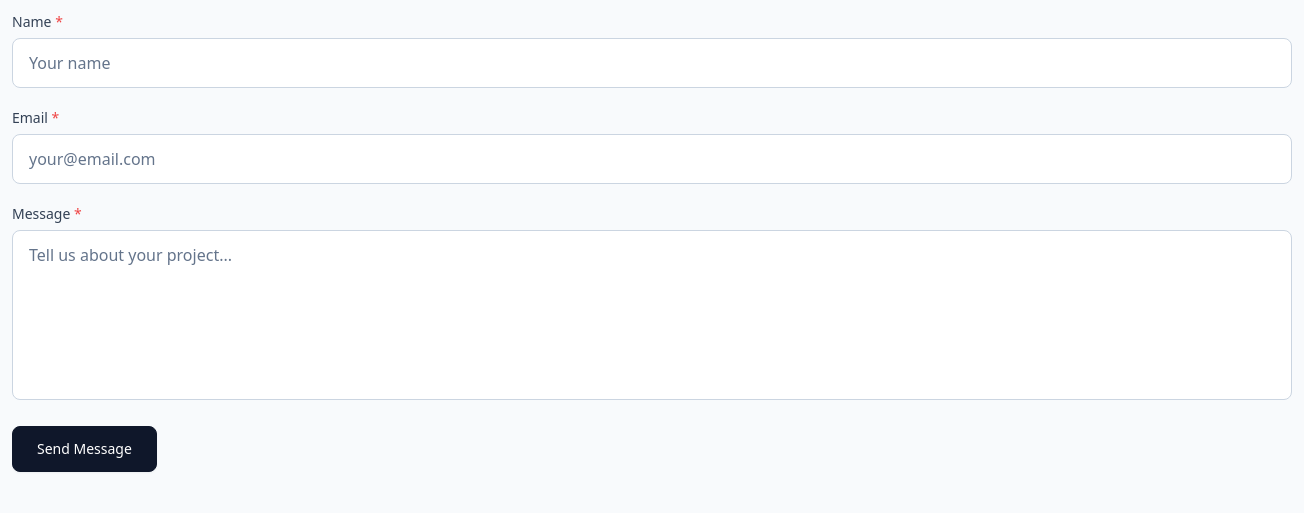
ContactForm › shows error for invalid email
Type "Test Name" into the field labelled "Name *" at (652, 63), box [12, 38, 1292, 88]
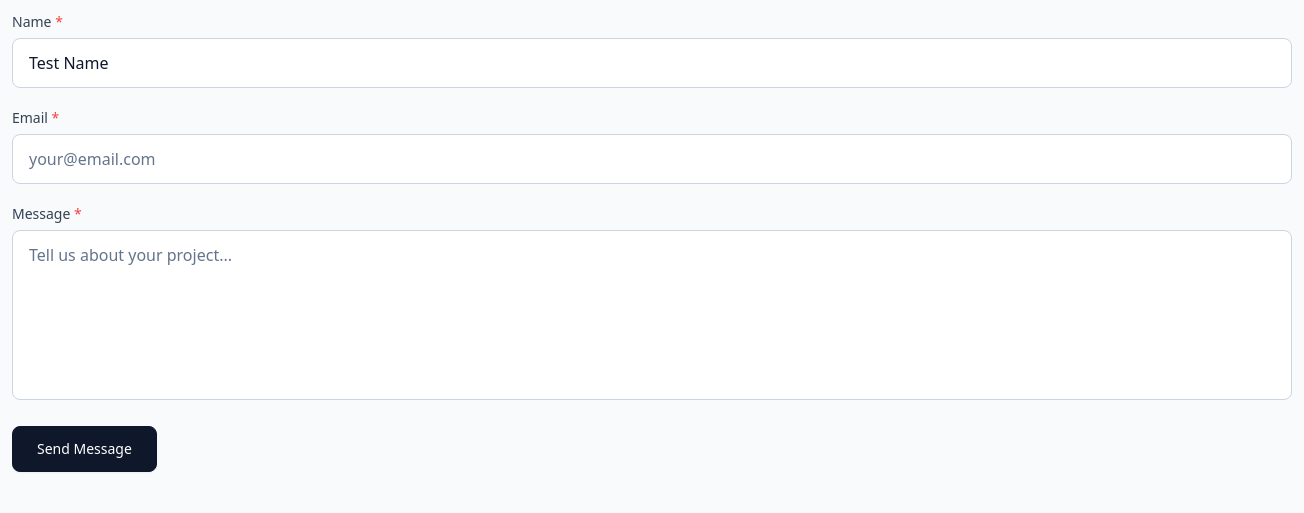
Type "invalid-email" into the field labelled "Email *" at (652, 159), box [12, 134, 1292, 184]
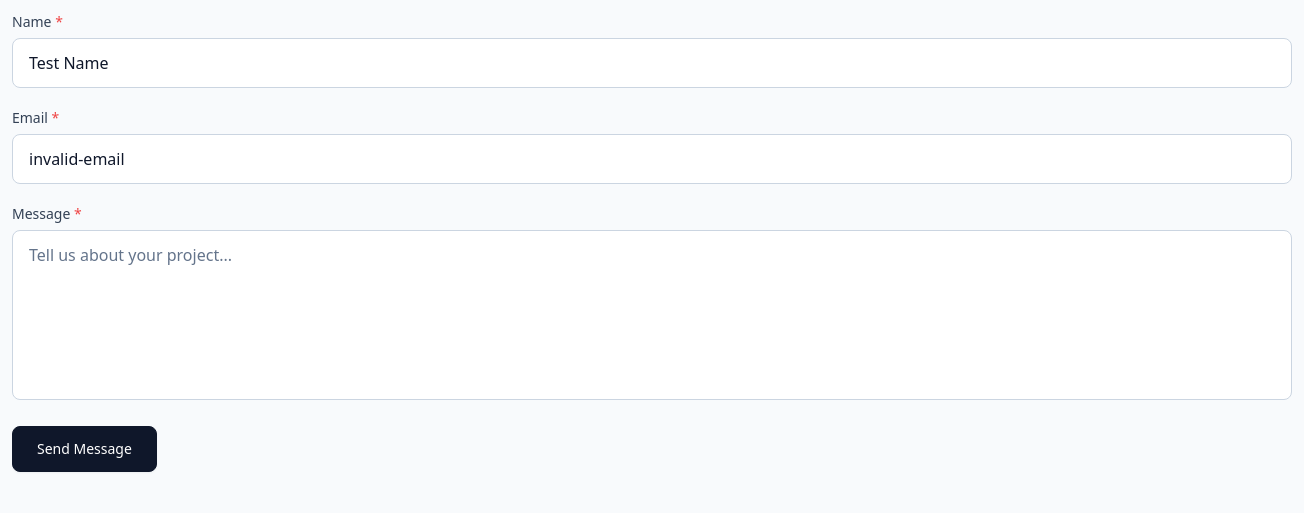
Type "Test message" into the text box labelled "Message *" at (652, 315), box [12, 230, 1292, 400]
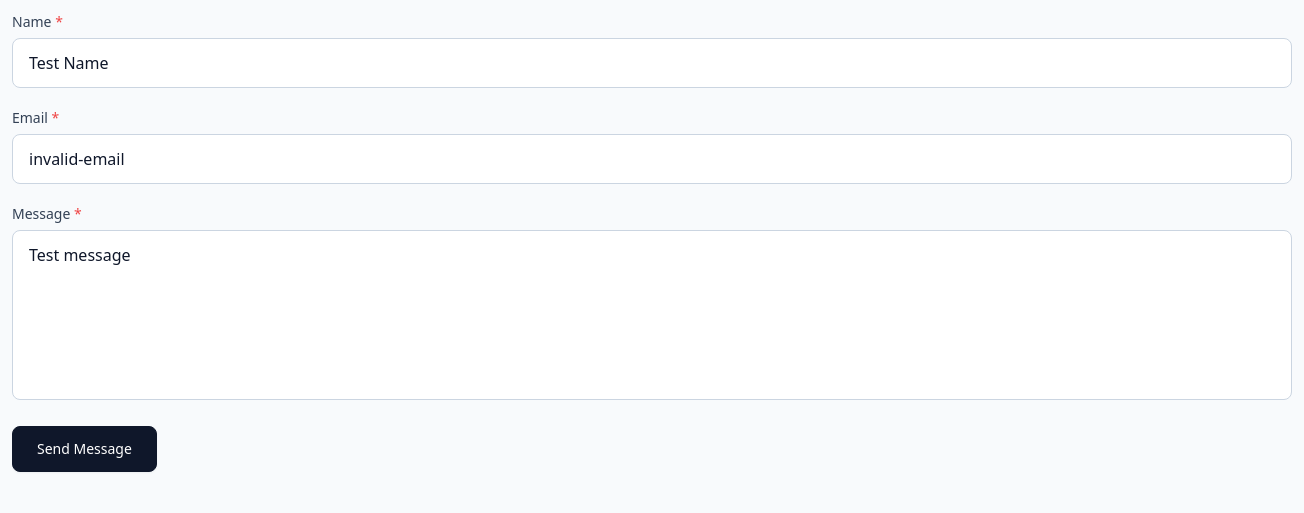
Submit the form named "contact form"
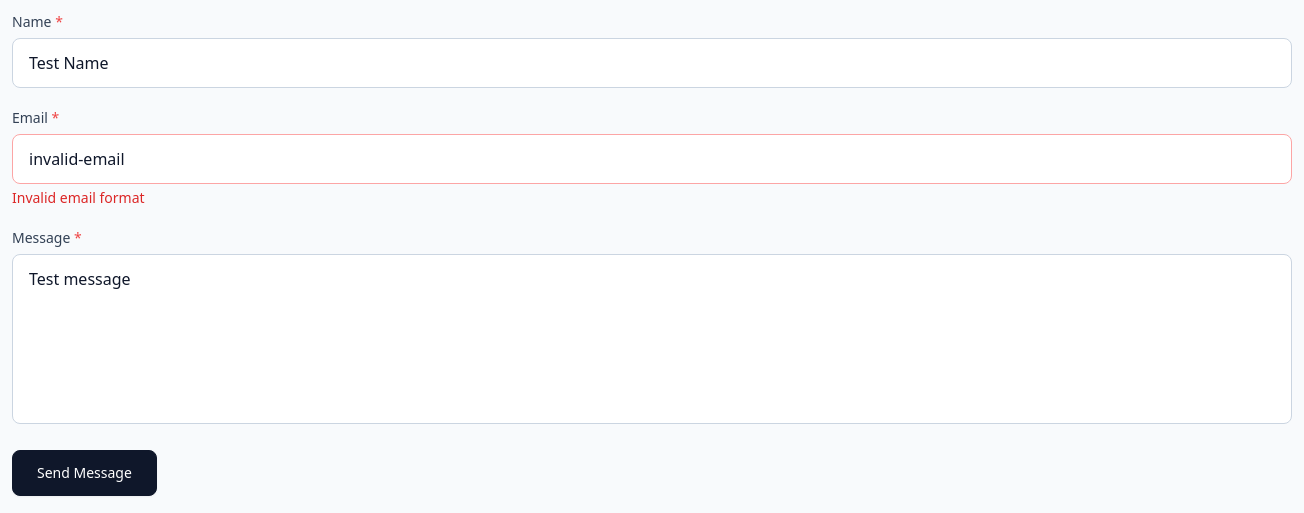
Expected: the text "Invalid email format" is shown, [12, 188, 145, 207]
